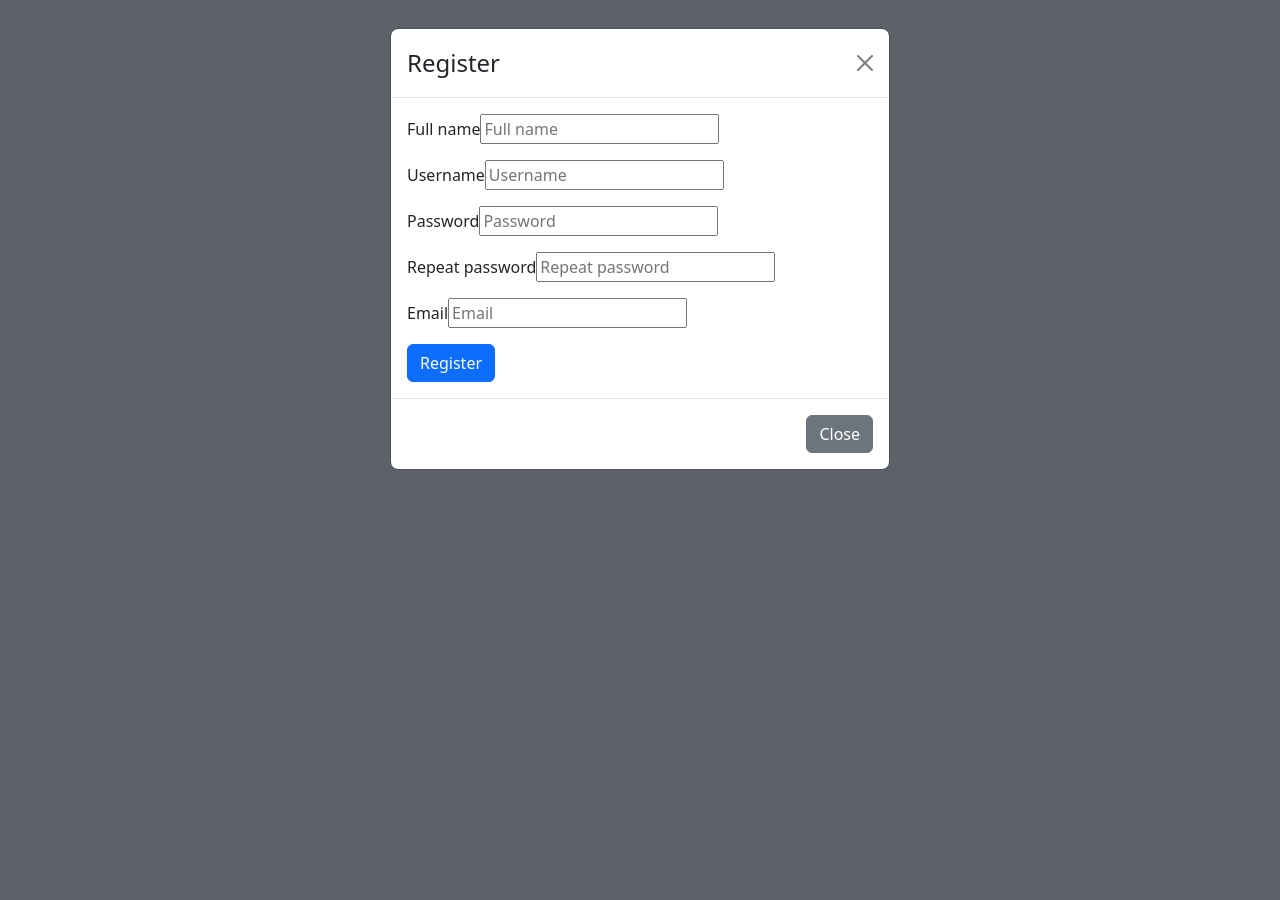
Scenario: SignUp Component › displays error message for password mismatch
This screenshot has width=1280, height=900.
// Simulate form submission with mismatched passwords
Type "password1" into the password field with test id "passwordInput" at coordinates (599, 221), box left=479, top=206, right=718, bottom=236
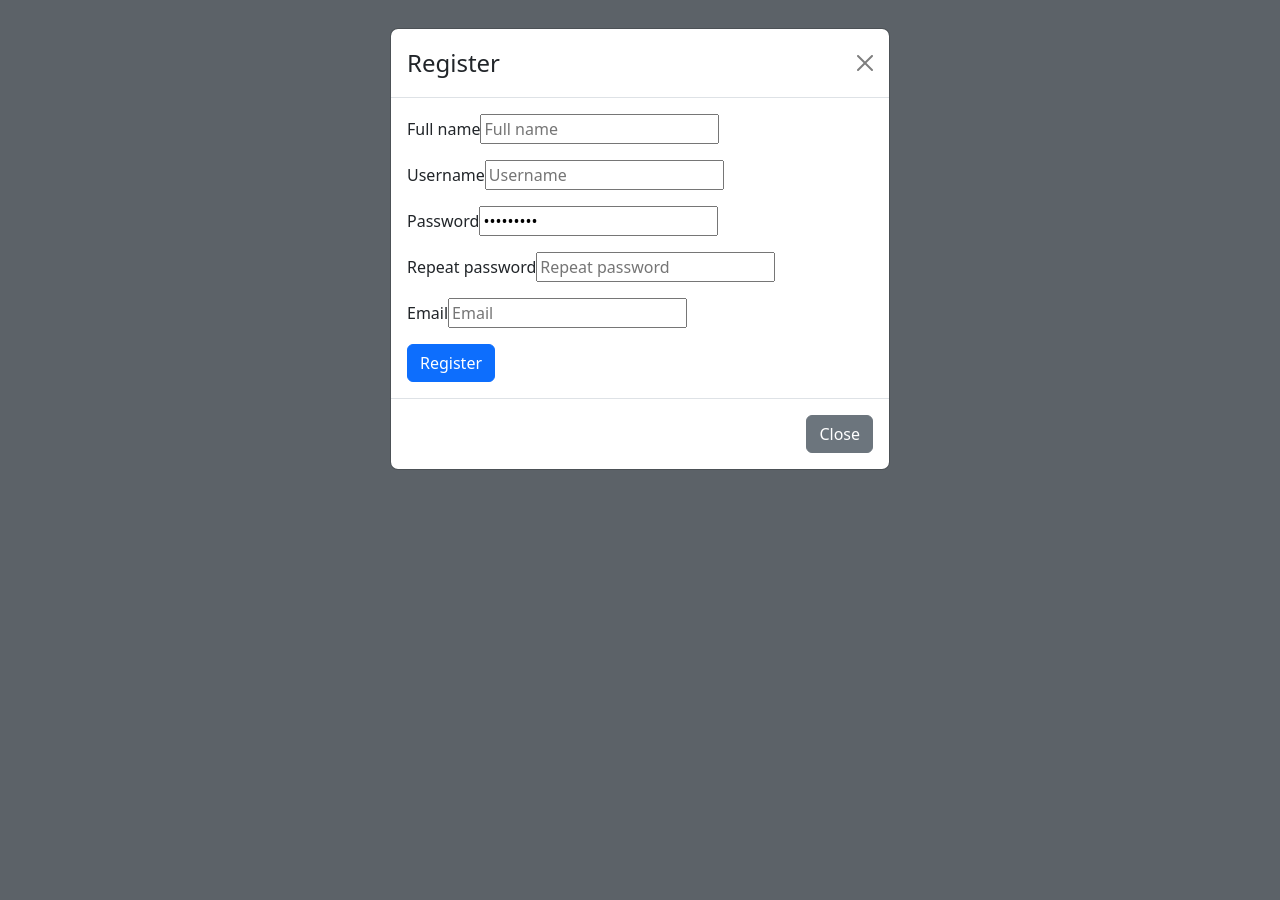
Type "password2" into the password field with test id "repeatPasswordInput" at coordinates (656, 267), box left=536, top=252, right=775, bottom=282
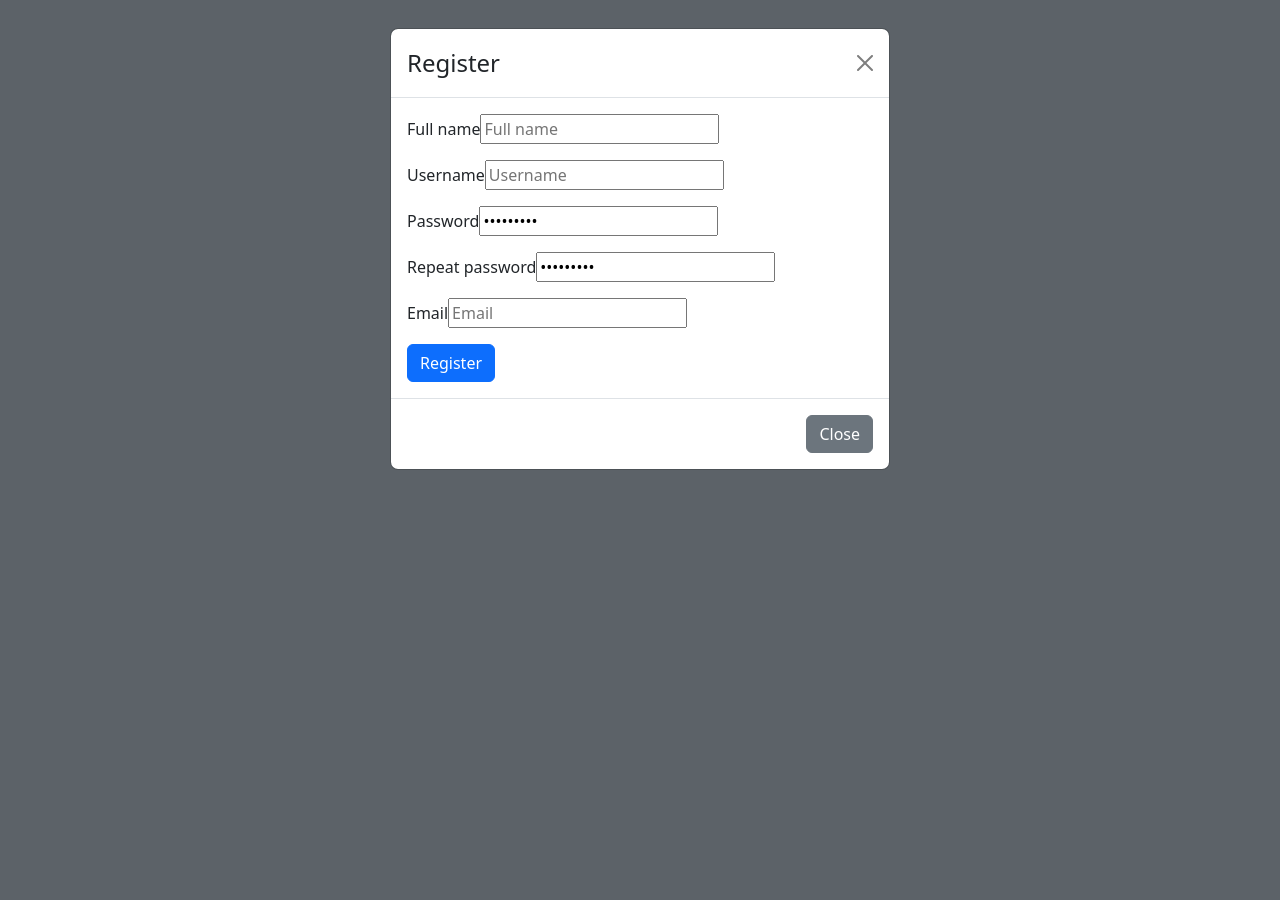
Click the button with test id "registerBtn" at coordinates (451, 363), box left=407, top=344, right=495, bottom=382
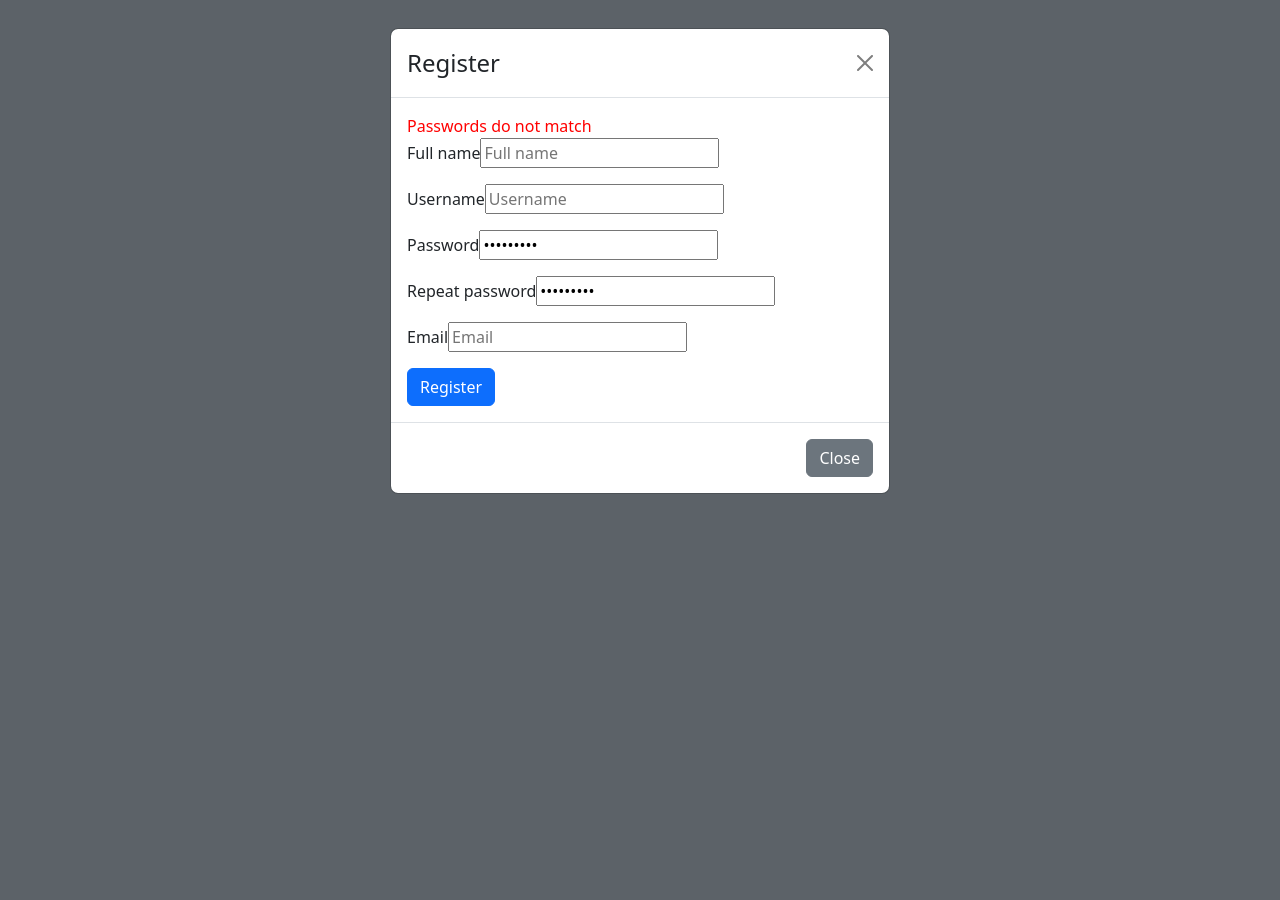
Check: the text "Passwords do not match" is shown, box left=407, top=115, right=592, bottom=137
